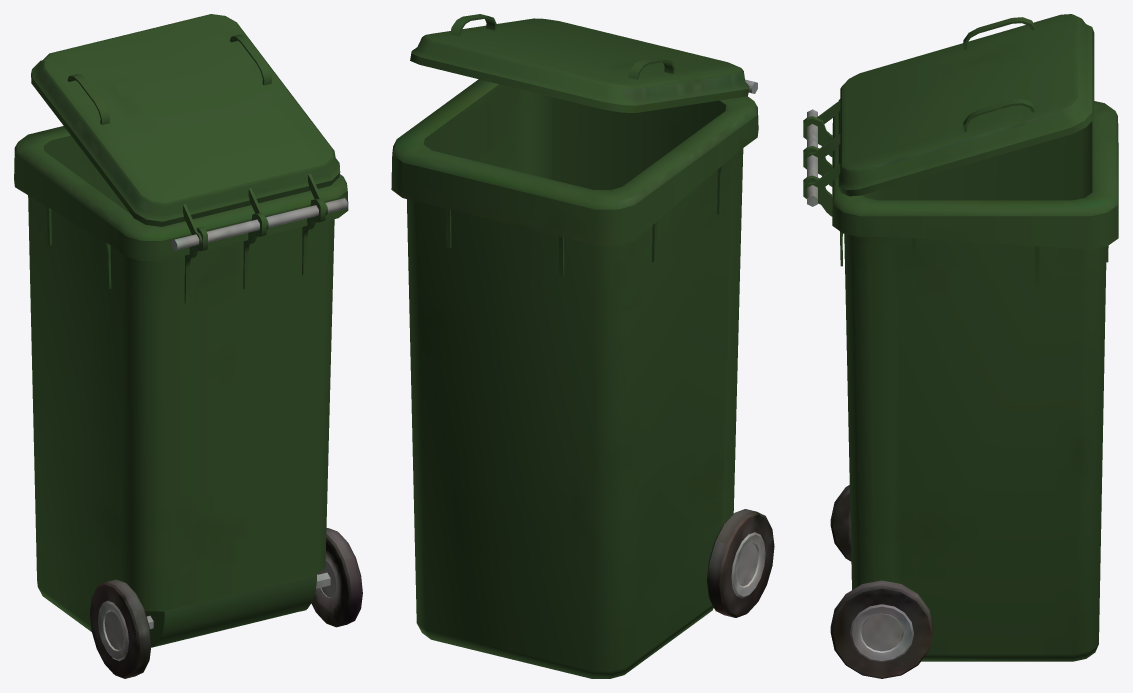
The model's file is trashbin.glb.
3 renders of one model, left to right at view 1: azimuth 30°, elevation 25°; view 2: azimuth 150°, elevation 25°; view 3: azimuth 270°, elevation 25°, orthographic. The views are drawn at different scales.
Parts seen in each view (by area): view 1: WasteBin, Lid, Wheels; view 2: WasteBin, Lid, Wheels; view 3: WasteBin, Lid, Wheels.
Boxes of the visible parts, left/top/right/bottom form: WasteBin: left=14, top=126, right=348, bottom=647; Lid: left=31, top=14, right=340, bottom=246; Wheels: left=90, top=528, right=362, bottom=678; WasteBin: left=391, top=79, right=758, bottom=678; Lid: left=410, top=14, right=749, bottom=112; Wheels: left=707, top=509, right=774, bottom=617; WasteBin: left=803, top=101, right=1118, bottom=661; Lid: left=804, top=14, right=1094, bottom=196; Wheels: left=830, top=485, right=933, bottom=678.
Size of the model in its own units: 0.5881 by 1.34 by 0.6796.
Materials: 3 (3 with a texture image).
